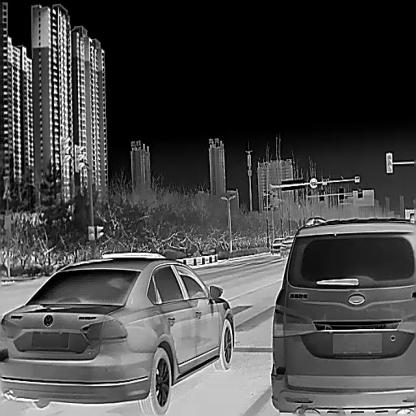car: (0, 250, 233, 415), (270, 211, 416, 415), (280, 234, 294, 254), (271, 236, 283, 252)
truck: (404, 208, 416, 219)
